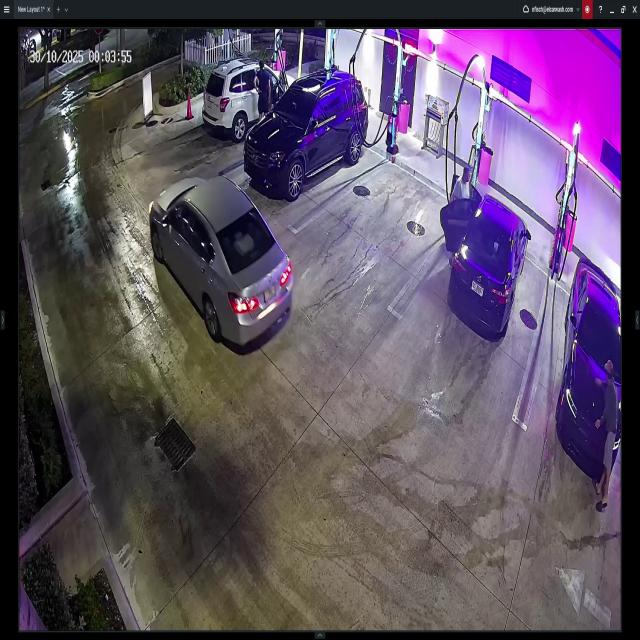Car: (152, 165, 294, 350), (244, 71, 368, 192), (447, 172, 532, 338), (558, 258, 622, 473), (203, 56, 290, 143)
